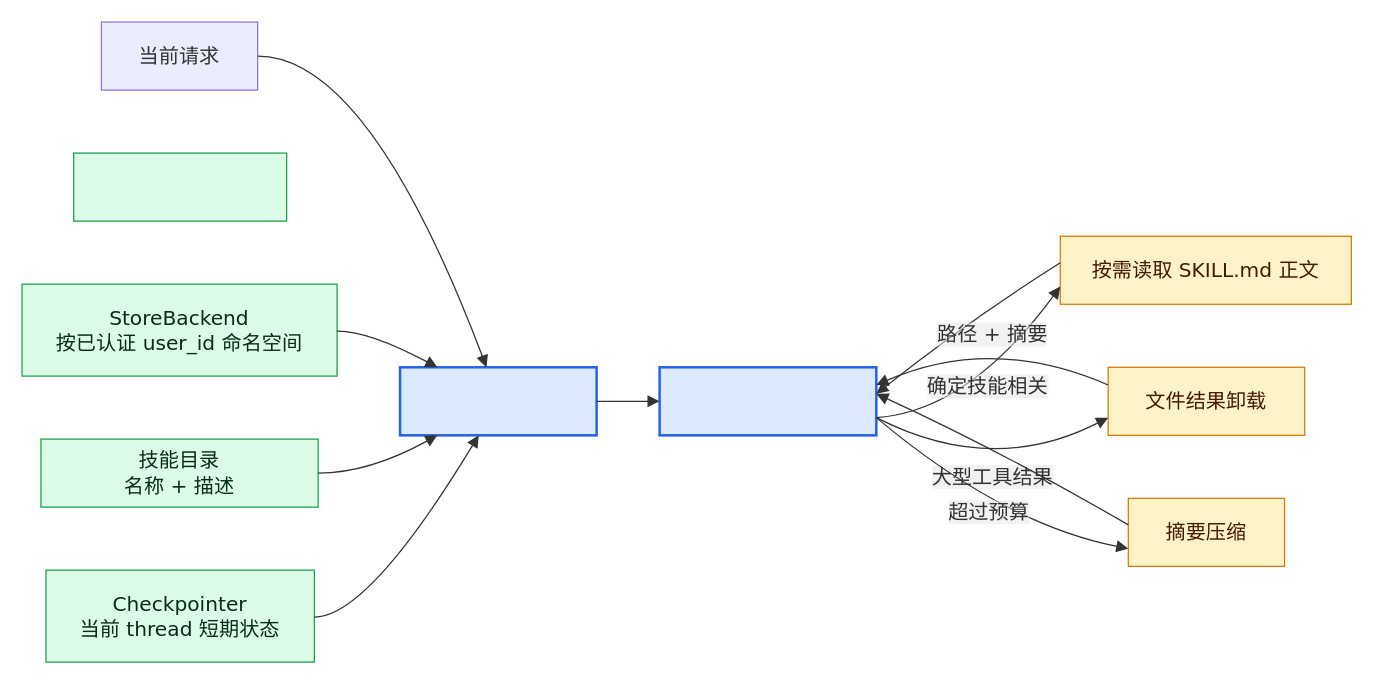
Image size: 1373x684. Some labels were removed from this diagram. Each missing label, with the centre of its shape:
"memory=[路径: point (179, 186)
上下文装配器: point (497, 400)
模型上下文窗口: point (767, 400)
